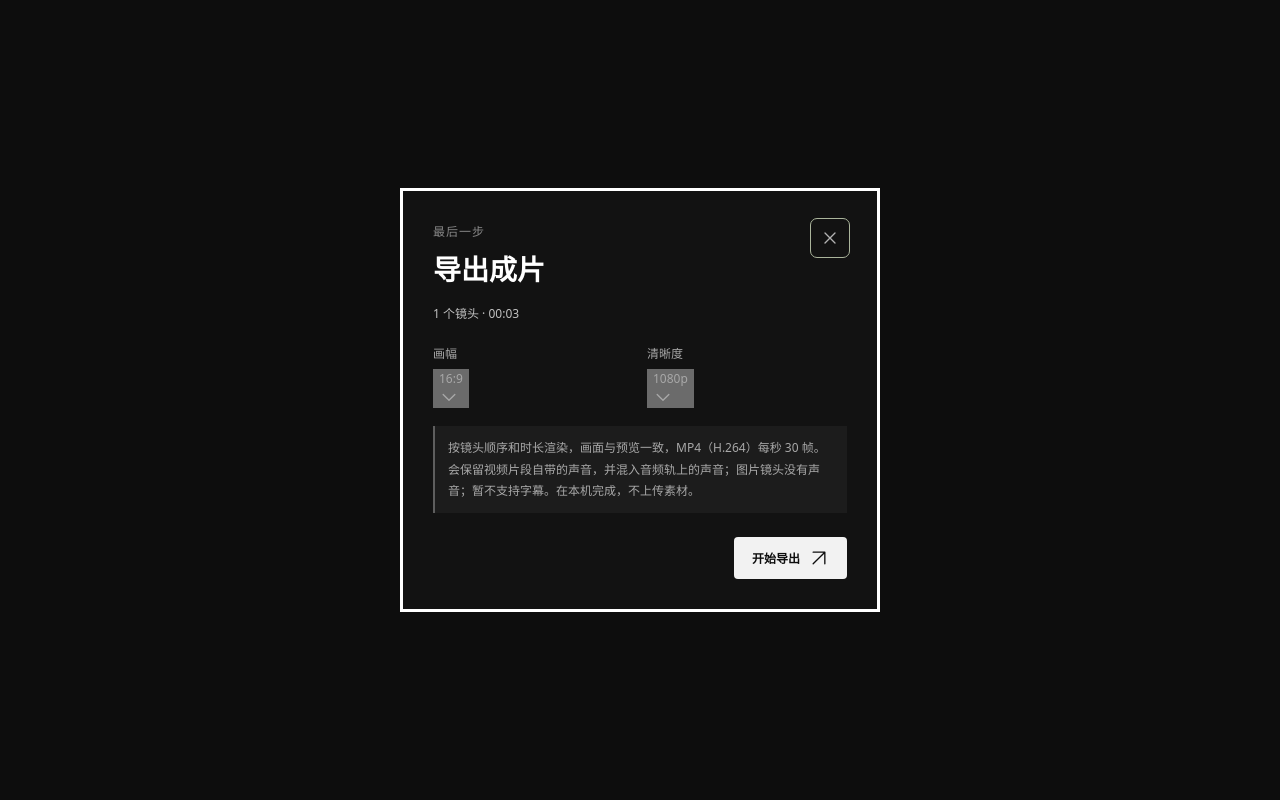
Test: export dialog › names the download after the project and the time of export
Expected: the text "最后一步" is shown, x1=433 y1=226 x2=485 y2=240
Click the button "开始导出": (790, 558) x1=734 y1=537 x2=847 y2=579
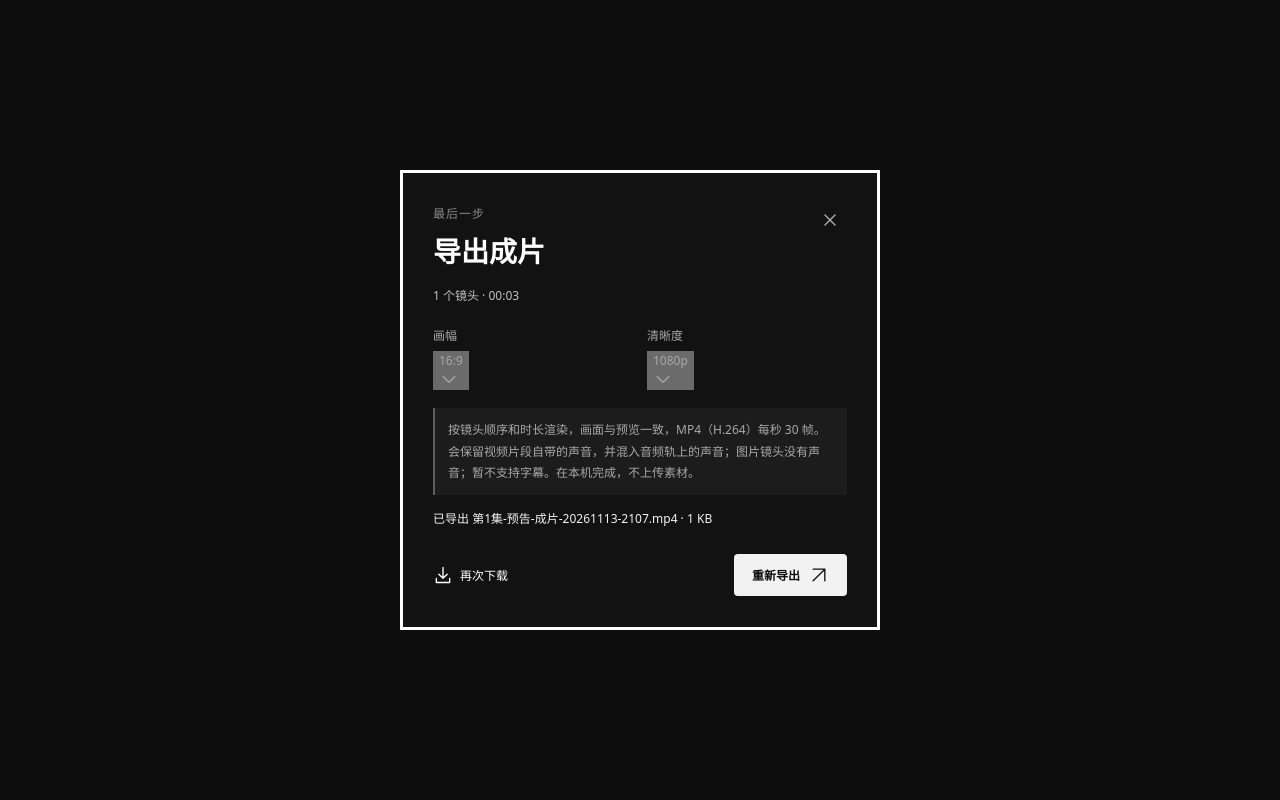
Result: the message shows "第1集-预告-成片-20261113-2107.mp4" at x1=472 y1=510 x2=678 y2=527
